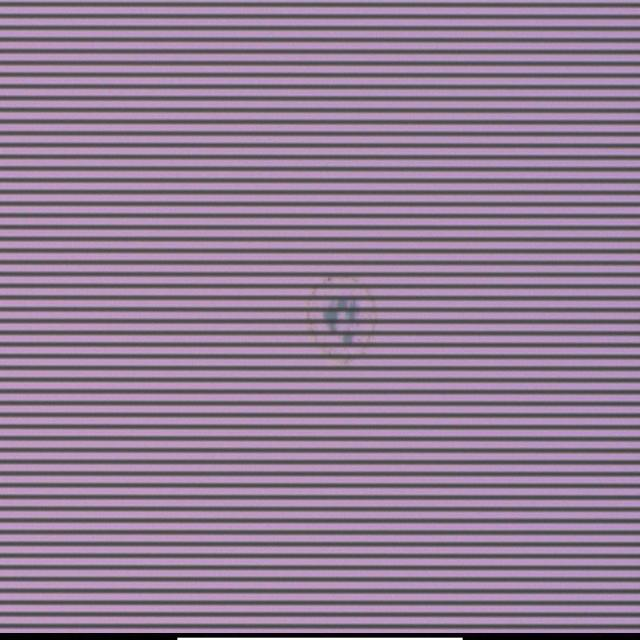nonvisual: (309, 274, 378, 364)
